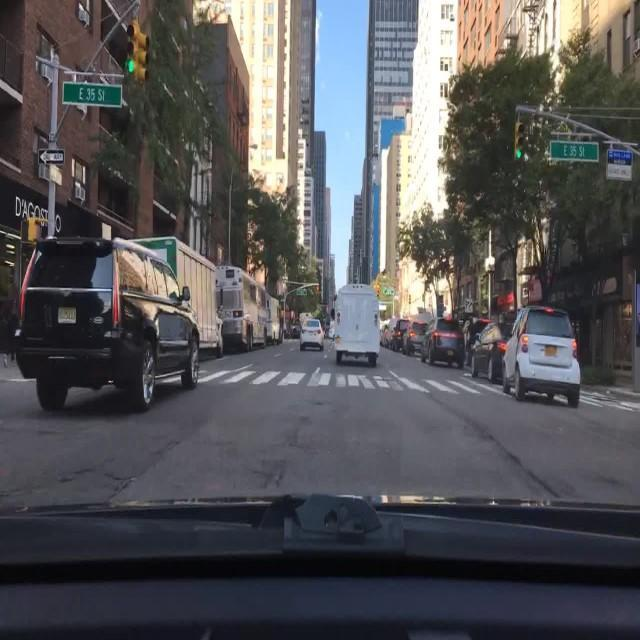normal: (16, 234, 209, 412), (502, 306, 585, 405), (215, 266, 268, 356), (334, 281, 382, 364), (469, 319, 511, 379), (419, 319, 469, 367), (401, 322, 432, 357), (300, 319, 325, 352), (388, 319, 411, 353)
